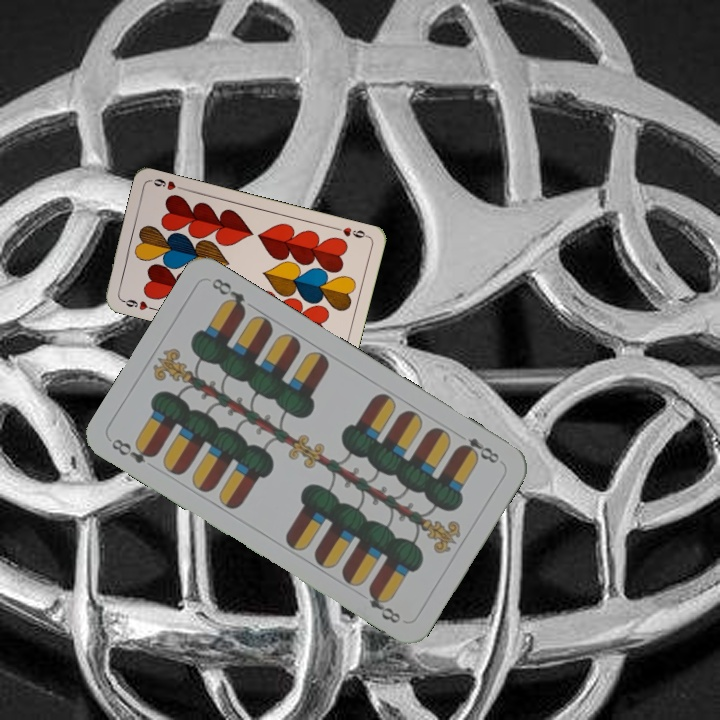E8: (107, 434, 159, 466), (454, 433, 502, 466)
H9: (331, 223, 371, 241), (117, 295, 157, 313)
